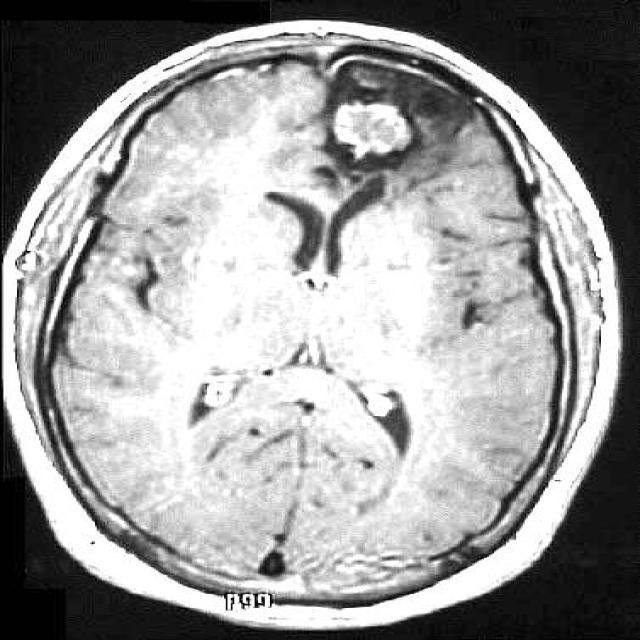brain tumor: (312, 59, 480, 198)
